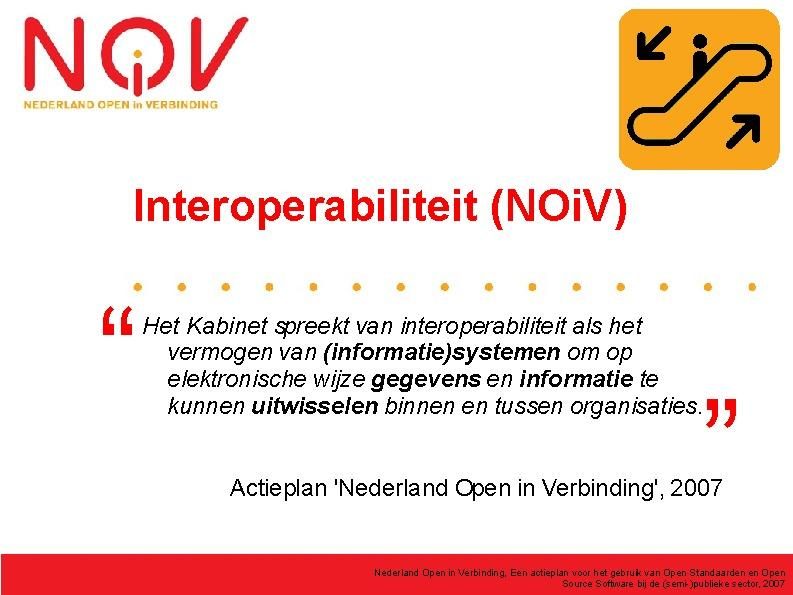paragraph: (68, 290, 765, 519)
subtitle: (366, 552, 793, 595)
title: (115, 173, 645, 254)
